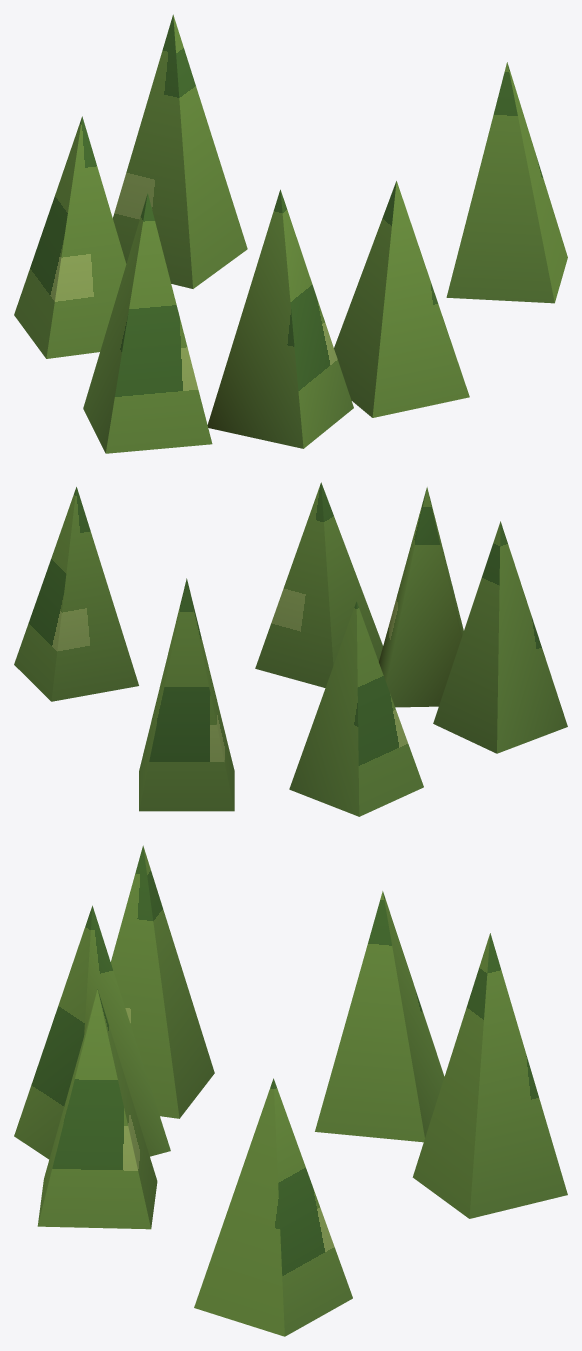
Rendered from mnat.flowers__tufts.glb.
3 views of the same model, one above another, from view 1: azimuth 30°, elevation 25°; view 2: azimuth 150°, elevation 25°; view 3: azimuth 270°, elevation 25° (orthographic). The views are drawn at different scales.
Visible parts, largest first — view 1: kit_plants; view 2: kit_plants; view 3: kit_plants.
Part boxes in pixels (x1,y1,x2,y2): kit_plants: (14,14,567,453); kit_plants: (14,482,567,816); kit_plants: (14,845,567,1336).
Size of the model in its own units: 1.31 by 0.5569 by 1.1.
Materials: 1 (1 with a texture image).
